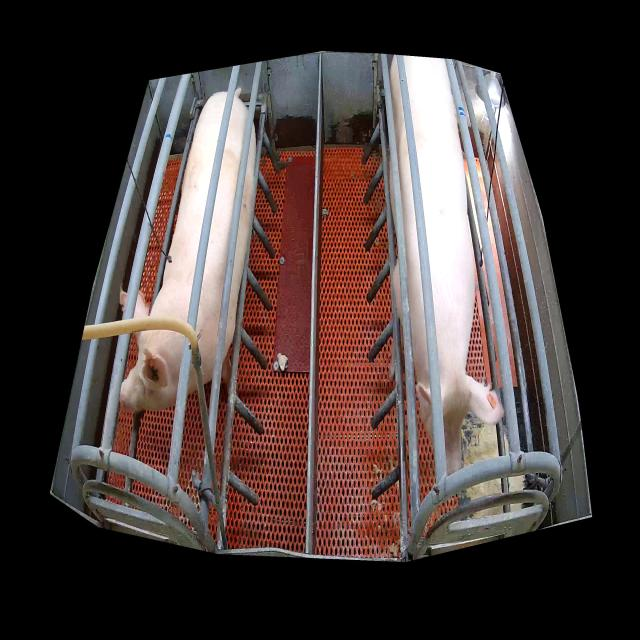pig: (389, 55, 503, 476), (120, 91, 256, 412)
